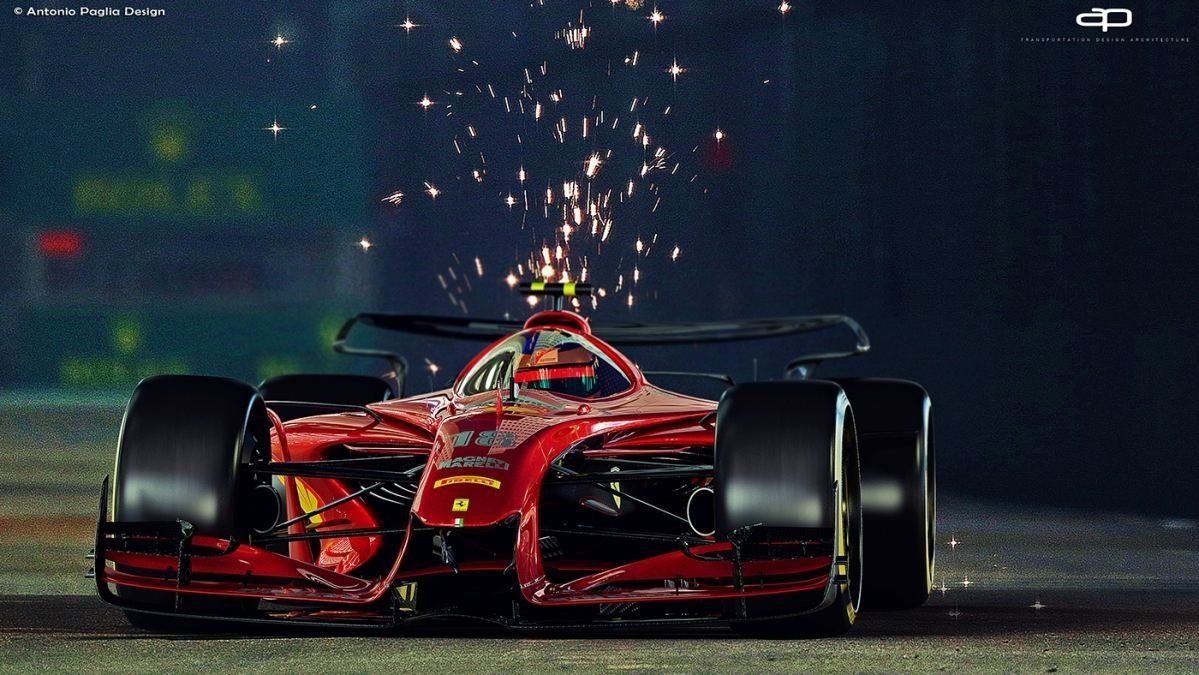f1_car: (71, 266, 959, 658)
